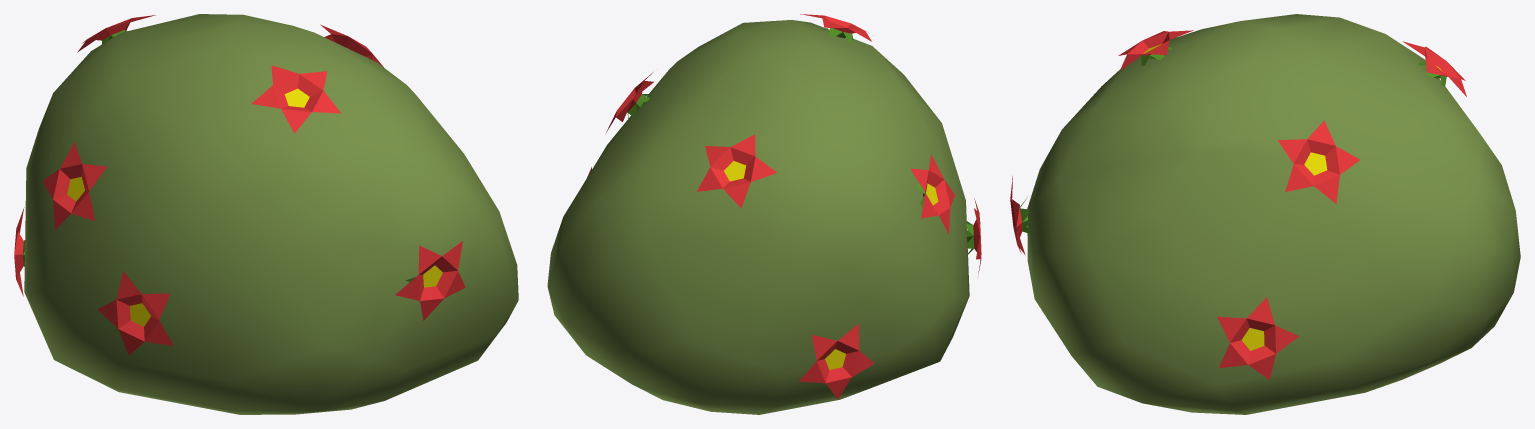
The model's file is bush.glb.
3 views of the same model, side by side, from view 1: azimuth 30°, elevation 25°; view 2: azimuth 150°, elevation 25°; view 3: azimuth 270°, elevation 25° (orthographic). The views are drawn at different scales.
Parts seen in each view (by area): view 1: Bush.001; view 2: Bush.001; view 3: Bush.001.
Boxes of the visible parts, box(x1,y1,x2,y2) form: Bush.001: box(14, 14, 518, 414); Bush.001: box(547, 14, 981, 414); Bush.001: box(1010, 14, 1520, 414).
Size of the model in its own units: 1.1 by 0.8695 by 1.23.
